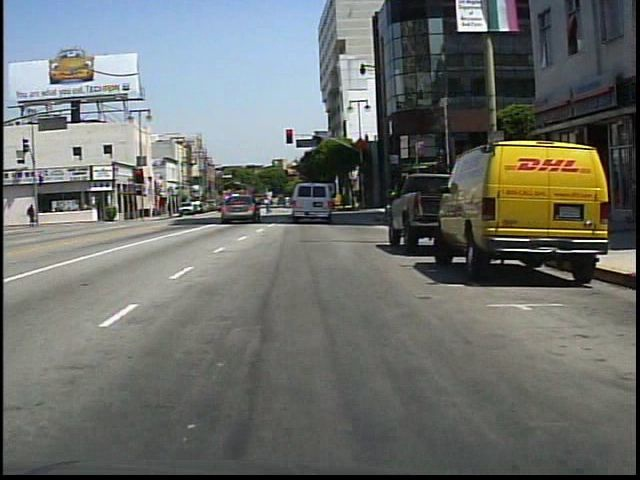person: (287, 191, 304, 223), (261, 193, 276, 219), (26, 203, 37, 226)
